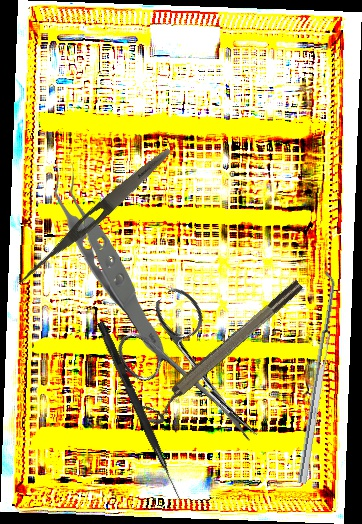Dressing Forceps: (13, 143, 175, 292)
Fixation Ring: (137, 277, 312, 429)
Hook Surgical: (94, 320, 186, 502)
Iris Scissors: (106, 282, 291, 470)
Spatula Surgical: (289, 270, 340, 485)
Tissue Forceps: (50, 161, 170, 356)
